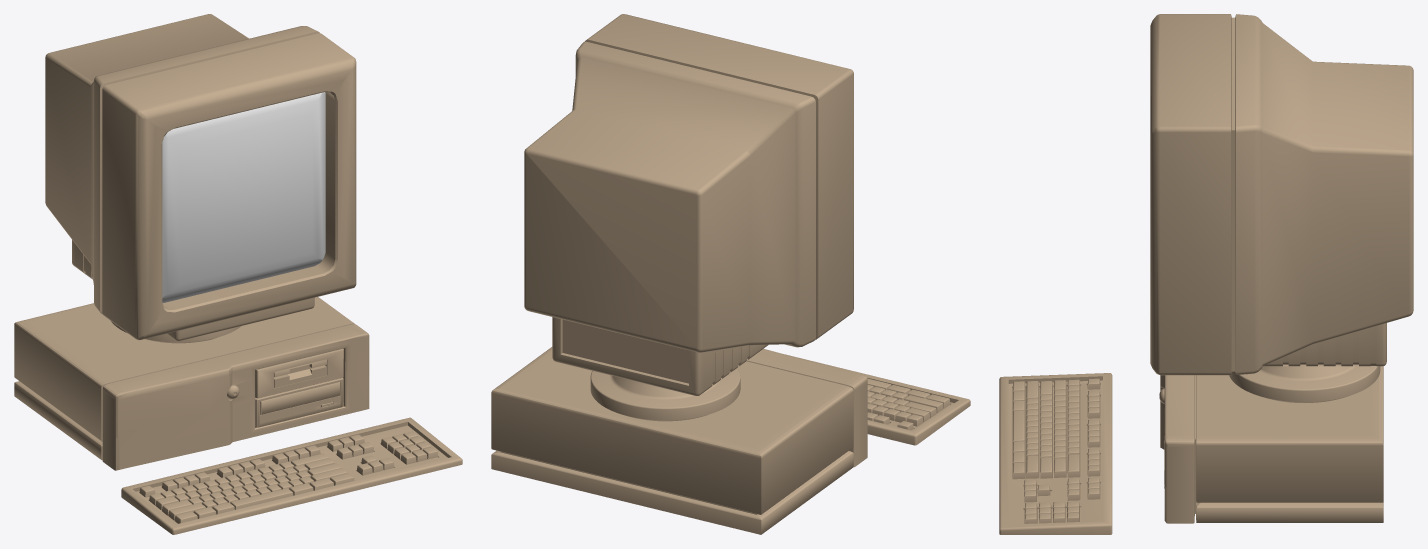
Rendered from Computer.fbx.
3 renders of one model, left to right at view 1: azimuth 30°, elevation 25°; view 2: azimuth 150°, elevation 25°; view 3: azimuth 270°, elevation 25°, orthographic. The views are drawn at different scales.
Visible parts, largest first — view 1: Monitor, ComputerTower, Keys, Keyboard, UnderMonitor, MonitorBase; view 2: Monitor, ComputerTower, UnderMonitor, MonitorBase, Keys, Keyboard; view 3: Monitor, ComputerTower, Keys, Keyboard, MonitorBase, UnderMonitor.
Boxes of the visible parts, x1,y1,x2,y2 form: Monitor: (45,14,356,340); ComputerTower: (14,297,369,470); Keys: (139,431,438,523); Keyboard: (121,417,462,534); UnderMonitor: (72,240,314,340); MonitorBase: (111,321,241,343); Monitor: (524,14,853,352); ComputerTower: (491,347,867,534); UnderMonitor: (552,317,768,395); MonitorBase: (590,368,740,421); Keys: (867,378,950,430); Keyboard: (786,354,970,445); Monitor: (1150,14,1413,375); ComputerTower: (1159,366,1383,523); Keys: (1012,378,1100,523); Keyboard: (999,373,1112,534); MonitorBase: (1229,366,1380,402); UnderMonitor: (1263,323,1386,366).
Size of the model in its own units: 790 by 940 by 907.
